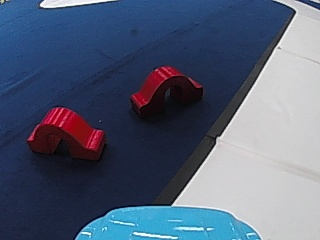bridge: (24, 103, 107, 159), (123, 62, 206, 117)
